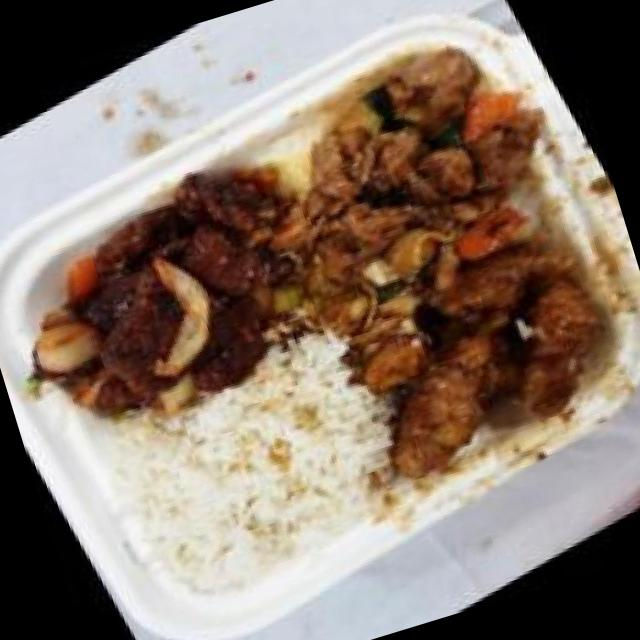Beijing Beef: (0, 124, 359, 471)
Kung Pao Chicken: (201, 0, 605, 367)
The Original Orange Chicken: (310, 190, 640, 503)
White Steamed Rice: (71, 306, 440, 638)
